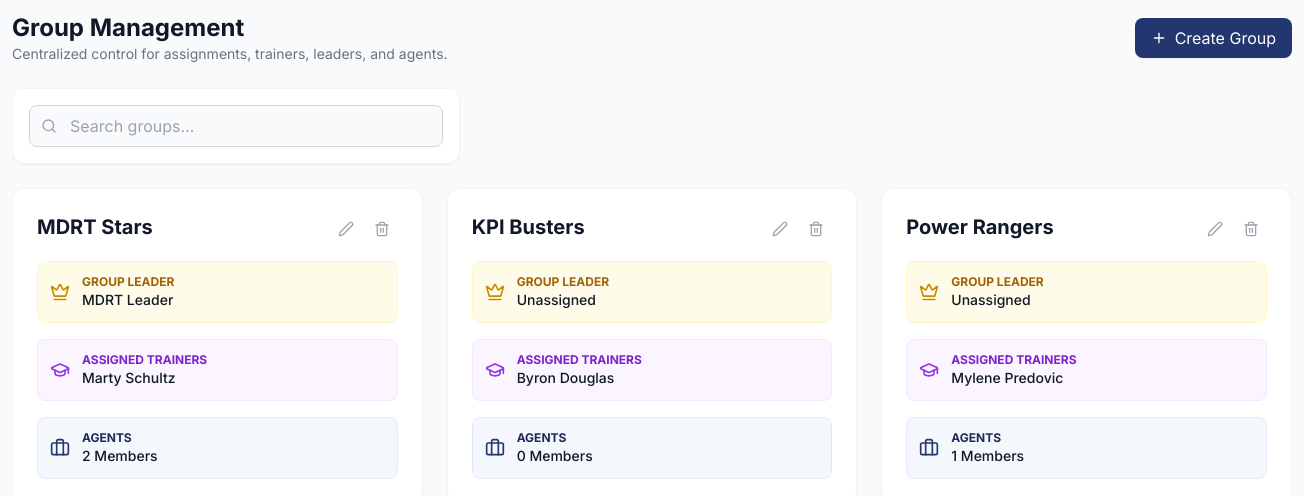
Scenario: AdminGroups › filters groups when searching by name
The width and height of the screenshot is (1304, 496).
Expected: the heading "MDRT Stars" is shown, [37,213,153,241]
Type "KPI" into the search input
Type "KPI" into the field with placeholder "Search groups...".
click(236, 126); type("KPI")  # box [29,105,443,147]
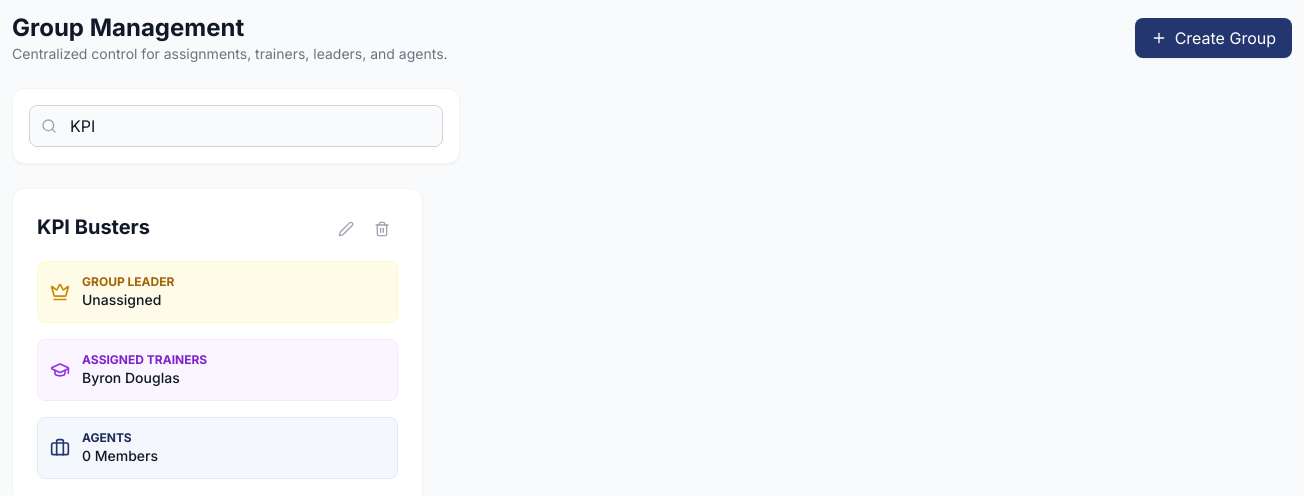
Expected: the heading "KPI Busters" is shown, [37,213,150,241]
Now the heading "MDRT Stars" is gone
Now the heading "Power Rangers" is gone
